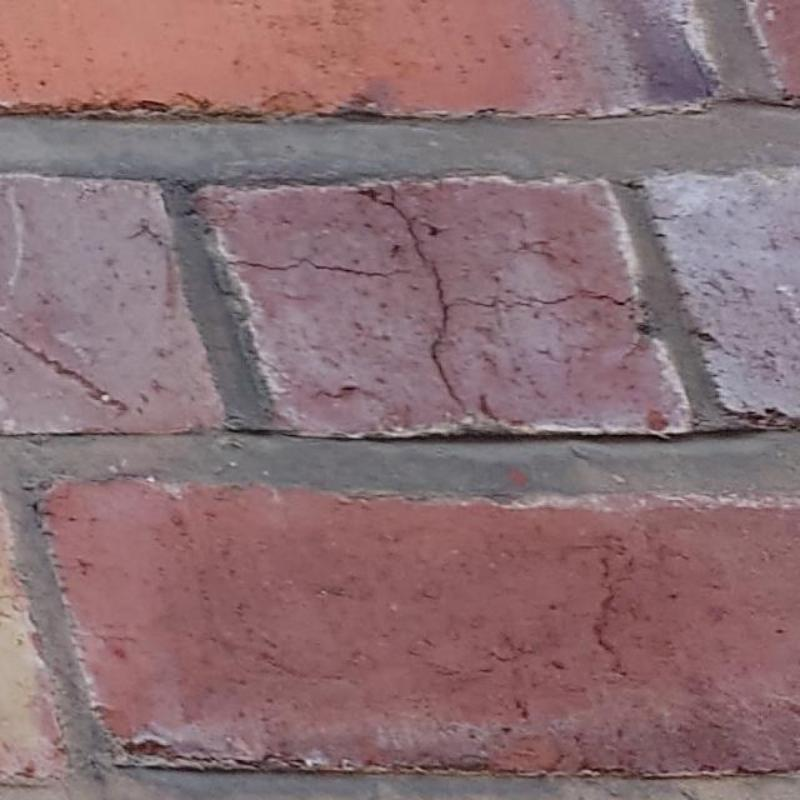crack: (346, 189, 479, 423), (464, 288, 638, 309), (305, 257, 411, 277), (226, 260, 299, 272)
